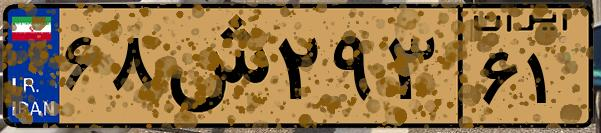1: (525, 38, 570, 115)
2: (270, 28, 330, 110)
3: (385, 28, 445, 110)
6: (57, 26, 110, 100), (475, 38, 525, 113)
8: (110, 28, 158, 98)
9: (330, 28, 385, 110)
ش: (158, 12, 270, 120)
